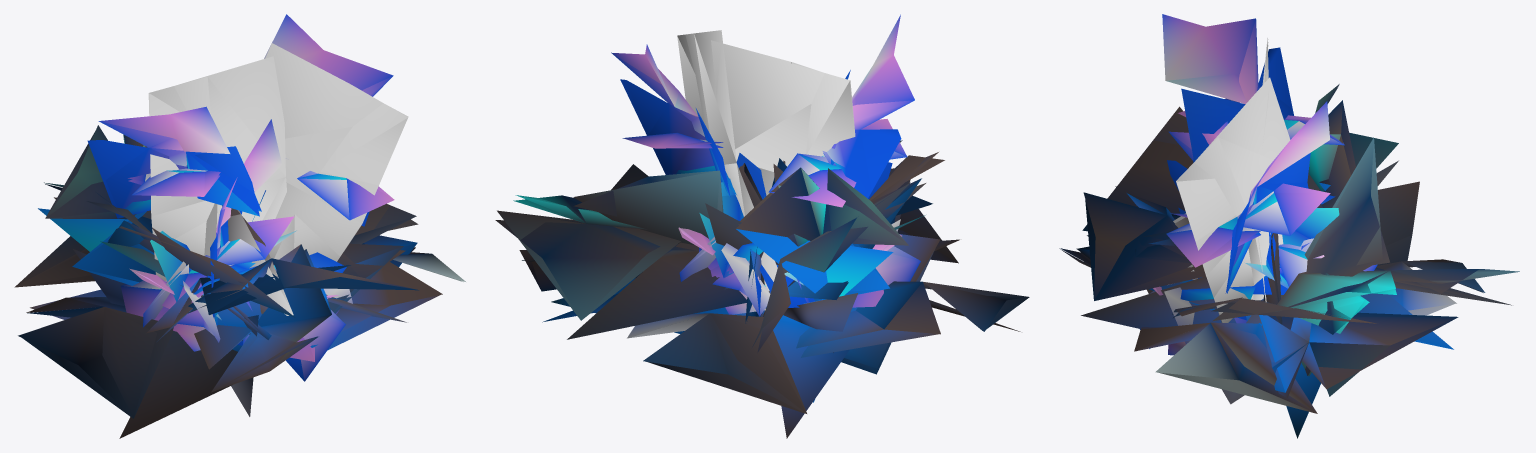
Rendered from shrub_g.dae.
3 views of the same model, side by side, from view 1: azimuth 30°, elevation 25°; view 2: azimuth 150°, elevation 25°; view 3: azimuth 270°, elevation 25° (orthographic). The views are drawn at different scales.
Parts seen in each view (by area): view 1: shrub_g_a450, shrub_g_a150; view 2: shrub_g_a450, shrub_g_a150; view 3: shrub_g_a450, shrub_g_a150.
Part boxes in pixels (box(x1,y1,x2,y2)): shrub_g_a450: box(14, 14, 465, 438); shrub_g_a150: box(15, 43, 462, 418); shrub_g_a450: box(495, 14, 1028, 438); shrub_g_a150: box(497, 34, 1029, 428); shrub_g_a450: box(1059, 14, 1519, 438); shrub_g_a150: box(1060, 19, 1519, 424).
Bounding box in the file's own units: 7.53 × 7.2 × 6.06.
